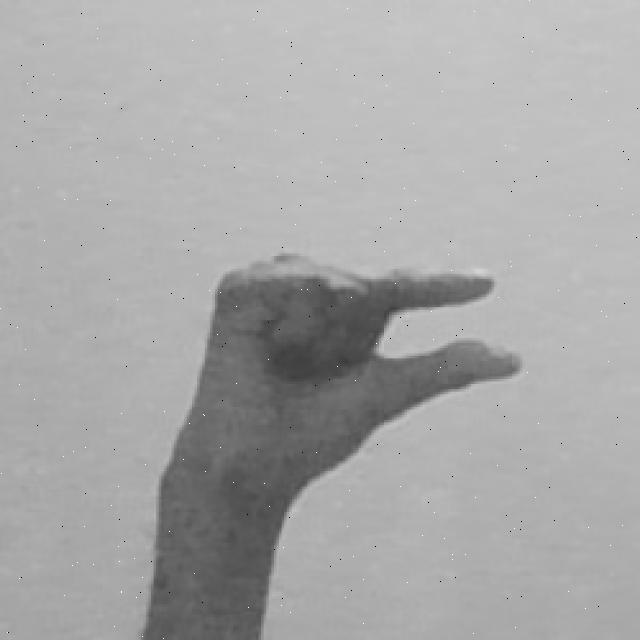G: (136, 248, 524, 640)
